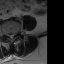CCS_stenosis: (10, 32, 12, 41)
LFS_stenosis: (14, 31, 16, 36)
LLS_normal: (12, 31, 14, 39)
RFS_stenosis: (6, 31, 8, 38)
RLS_stenosis: (8, 32, 10, 39)
